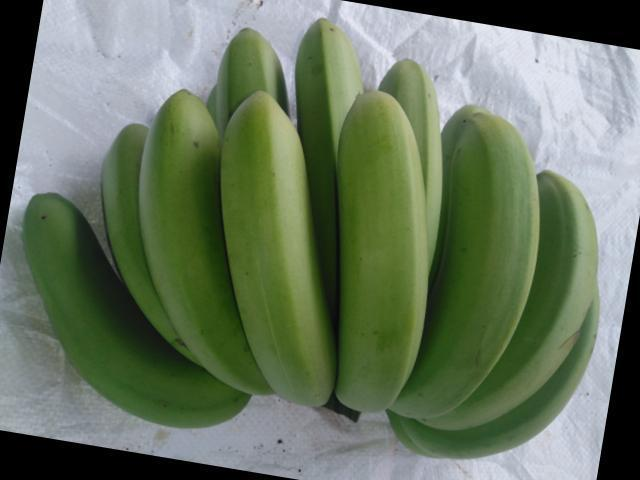freshunripe: (218, 90, 361, 453), (125, 81, 285, 402), (11, 177, 187, 427), (428, 101, 542, 441), (321, 79, 427, 436), (483, 153, 600, 441), (274, 9, 378, 141), (92, 108, 160, 273), (198, 10, 281, 120), (391, 31, 438, 117)
